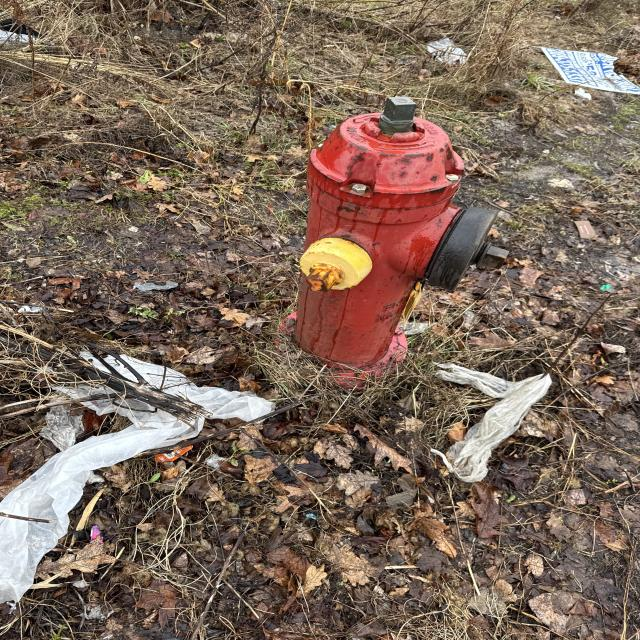Fire hydrant: (273, 96, 509, 390)
